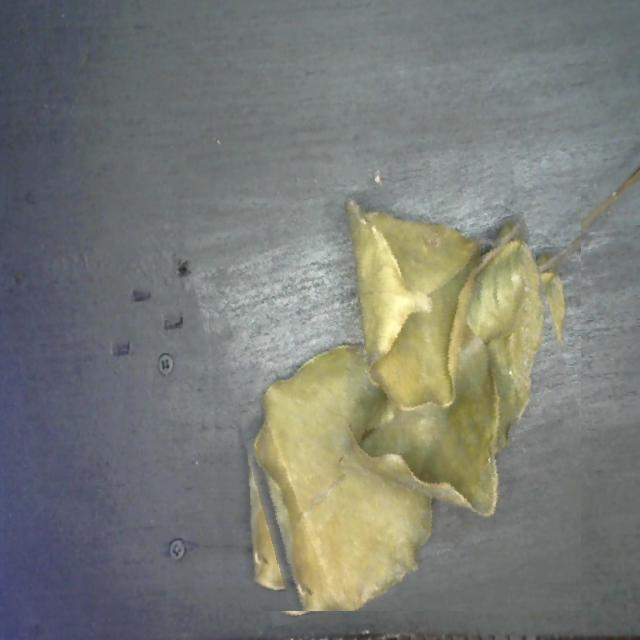biodegradable: (201, 166, 581, 611)
